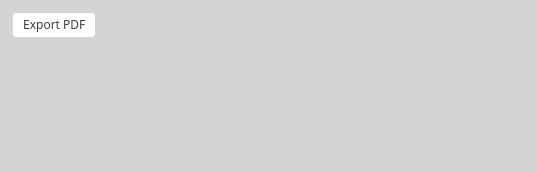
Test: PdfExport › explains that Chrome or Edge is needed when the server has neither
Click the button "Export PDF" at point(54, 25), box [12,12,96,38]
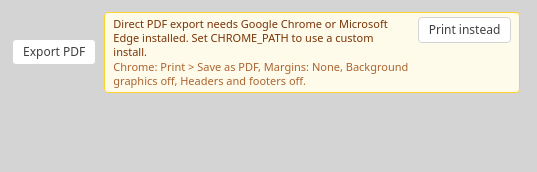
Result: the message shows "Direct PDF export needs Google Chrome or Microsoft Edge installed." at [113,16,388,58]
Result: the message shows "CHROME_PATH" at [113,16,388,58]
